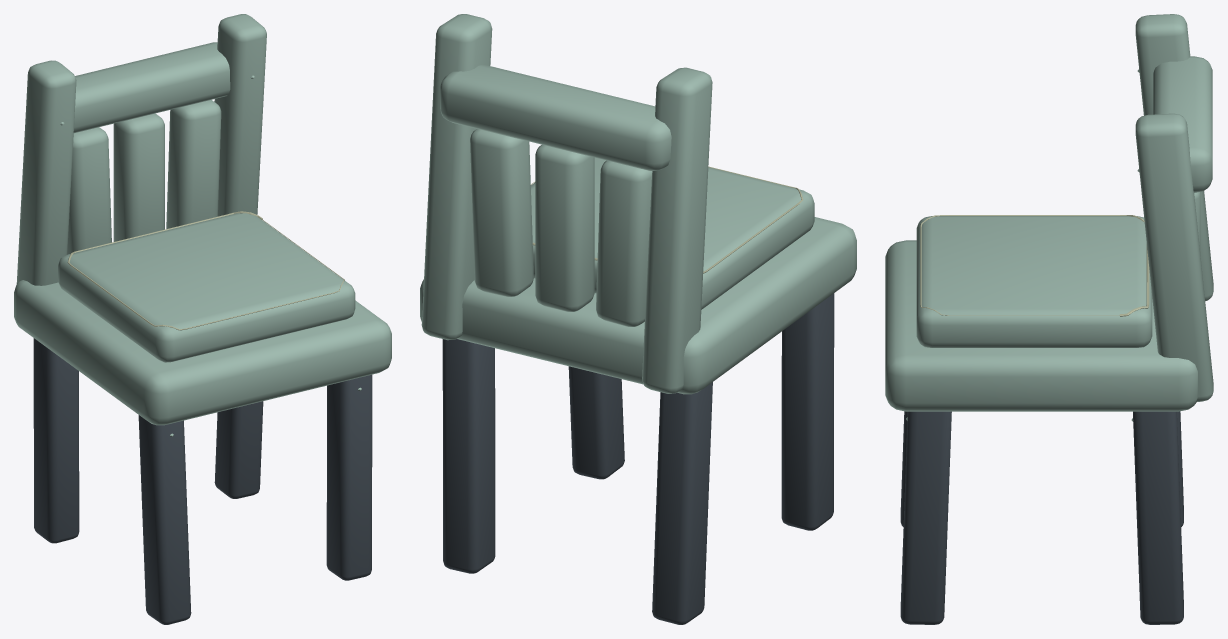
The model's file is dining-chair.glb.
3 renders of one model, left to right at view 1: azimuth 30°, elevation 25°; view 2: azimuth 150°, elevation 25°; view 3: azimuth 270°, elevation 25°, orthographic. The views are drawn at different scales.
Visible parts, largest first — view 1: dining-chair; view 2: dining-chair; view 3: dining-chair.
Part boxes in pixels (x1,y1,x2,y2): dining-chair: (14, 14, 391, 624); dining-chair: (420, 14, 856, 624); dining-chair: (885, 14, 1213, 624).
Bounding box in the file's own units: 0.48 × 0.88 × 0.52.
